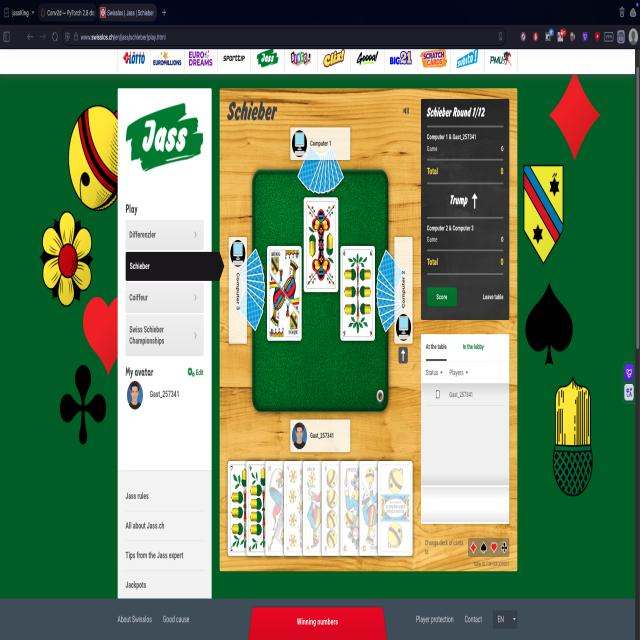ei7: (227, 463, 254, 554)
ei9: (248, 464, 280, 556)
eia: (305, 199, 338, 292)
eik: (340, 242, 374, 341)
rok: (285, 463, 316, 557)
roo: (304, 462, 338, 558)
se8: (322, 463, 355, 560)
sea: (378, 465, 412, 557)
sek: (360, 463, 392, 555)
seu: (340, 465, 372, 556)
si10: (266, 461, 298, 556)
sik: (267, 246, 301, 340)
